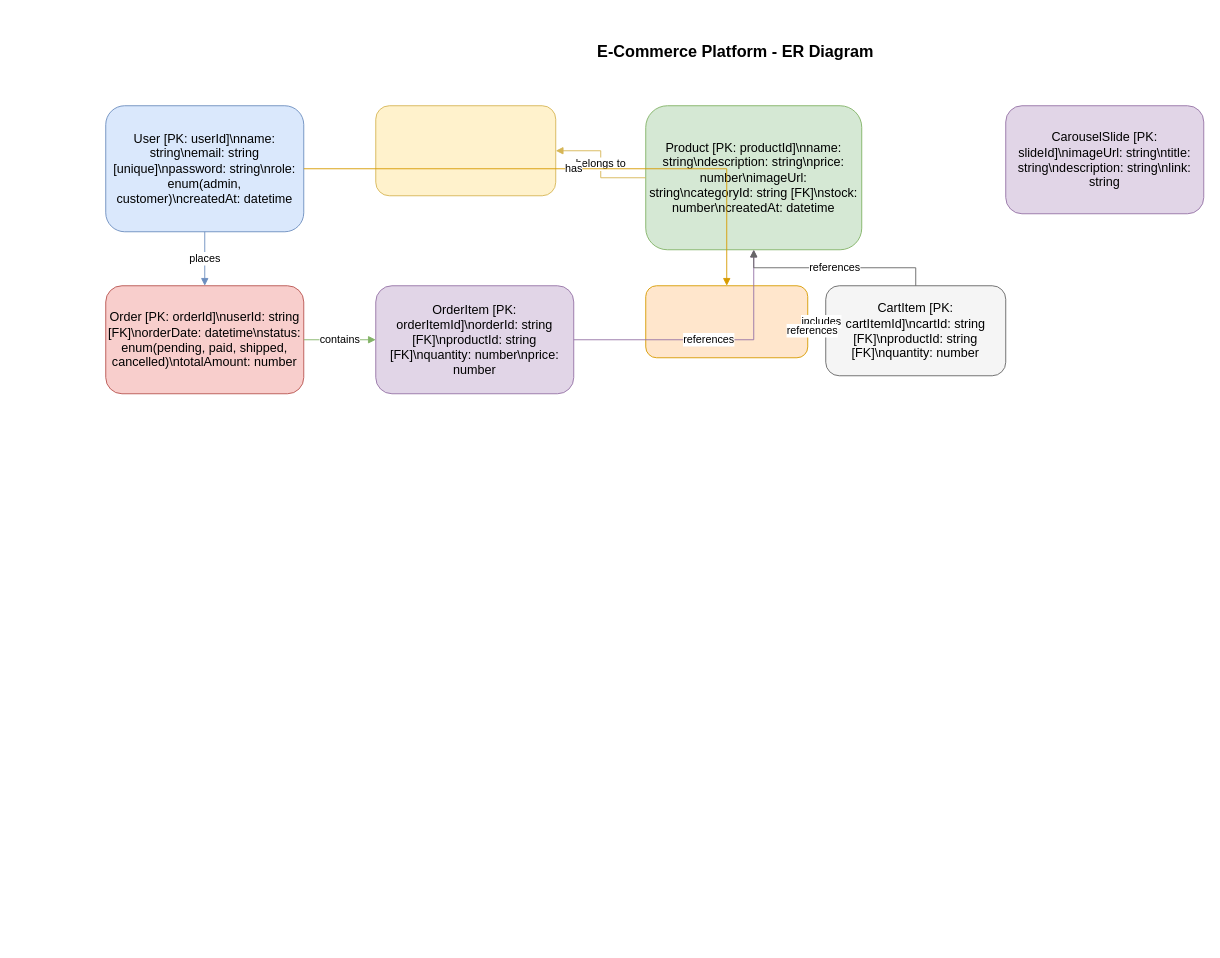
Some shapes in this 1220 by 958 pixel diagram are drawn without their labels. Here are the shapes that lost their labels. From the top down, the box of each, then its label:
(375, 105, 556, 196): Category [PK: categoryId]\nname: string\niconUrl: string
(645, 285, 808, 358): Cart [PK: cartId]\nuserId: string [FK]
